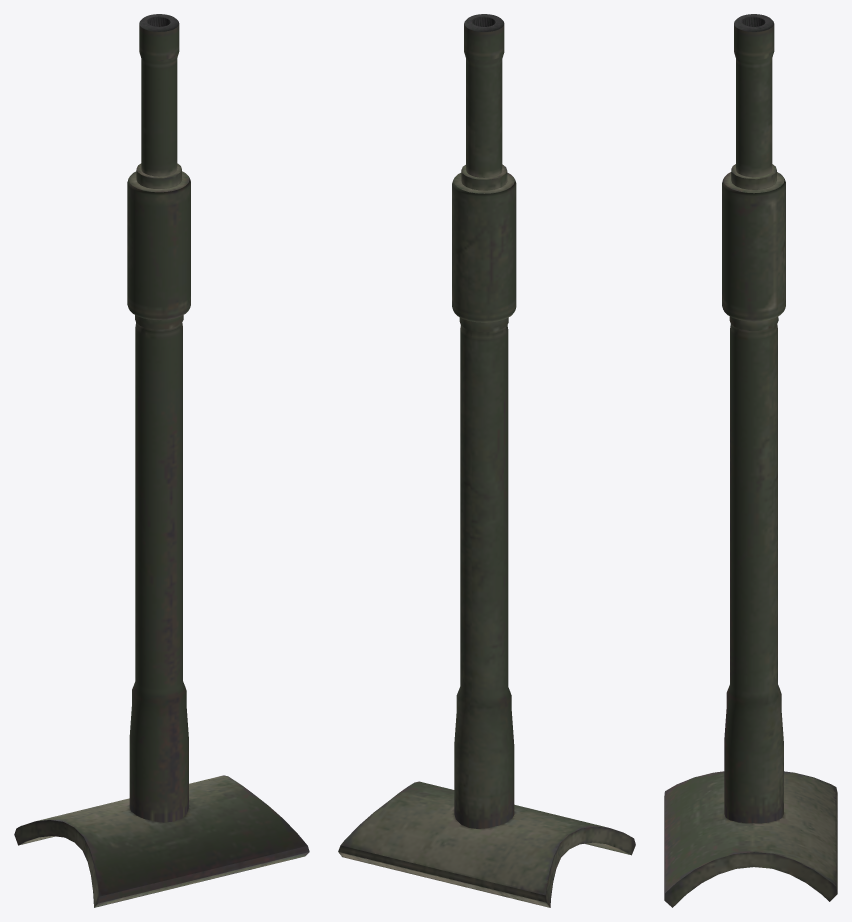
Rendered from Gun_05.glb.
3 views of the same model, side by side, from view 1: azimuth 30°, elevation 25°; view 2: azimuth 150°, elevation 25°; view 3: azimuth 270°, elevation 25° (orthographic).
Parts seen in each view (by area): view 1: set_0_group_0; view 2: set_0_group_0; view 3: set_0_group_0.
Part boxes in pixels (x1,y1,x2,y2): set_0_group_0: [14, 14, 309, 907]; set_0_group_0: [338, 14, 635, 907]; set_0_group_0: [664, 14, 837, 907].
Size of the model in its own units: 0.8136 by 3.05 by 0.5745.
Materials: 1 (1 with a texture image).
